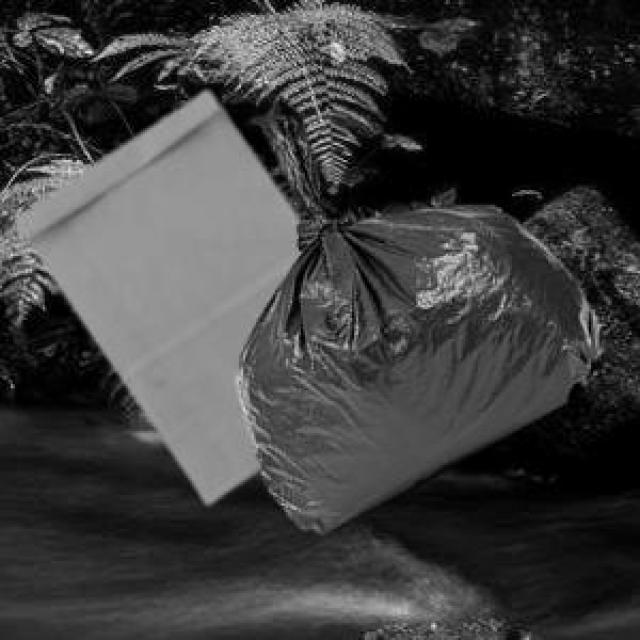miscellaneous trash: (233, 92, 602, 529)
paper: (13, 88, 299, 499)
